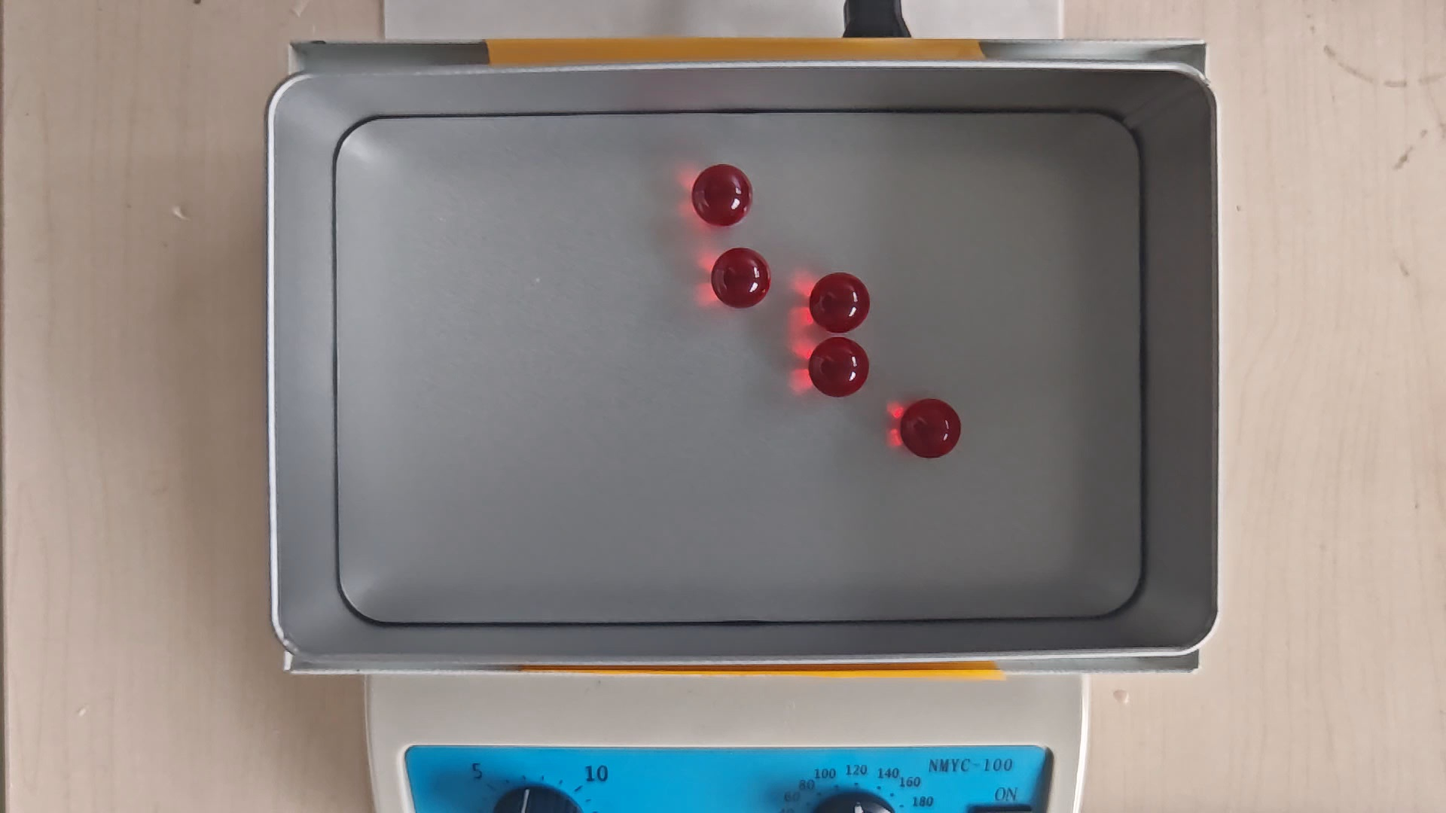ball: (808, 273, 872, 334), (898, 400, 959, 462), (690, 165, 751, 226), (712, 246, 771, 309), (809, 338, 869, 397)
container: (330, 106, 1146, 623)
